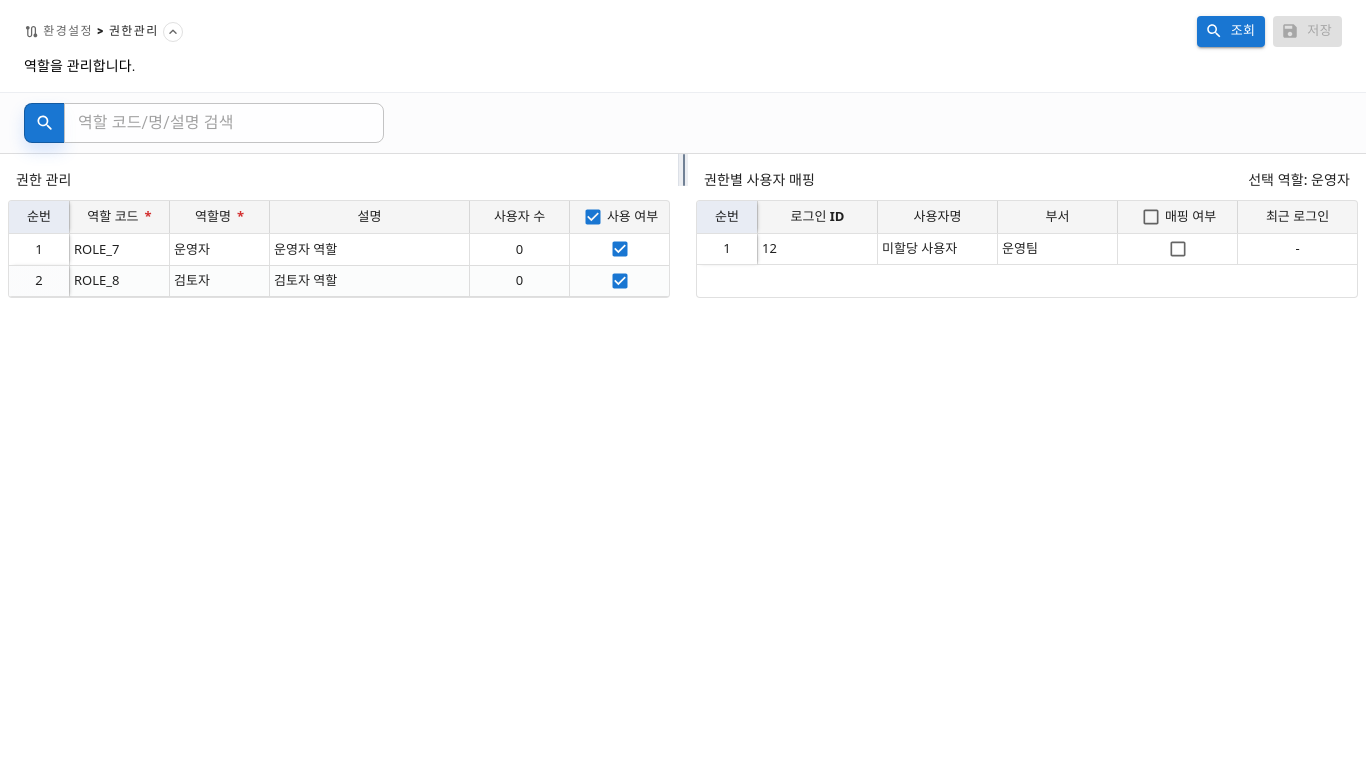
Test: RoleManagementPage notifications › keeps the current role and mapping changes when canceling a guarded role switch
Click the checkbox named "매핑 여부 12".
click(1178, 249)  # box [1168, 239, 1188, 259]
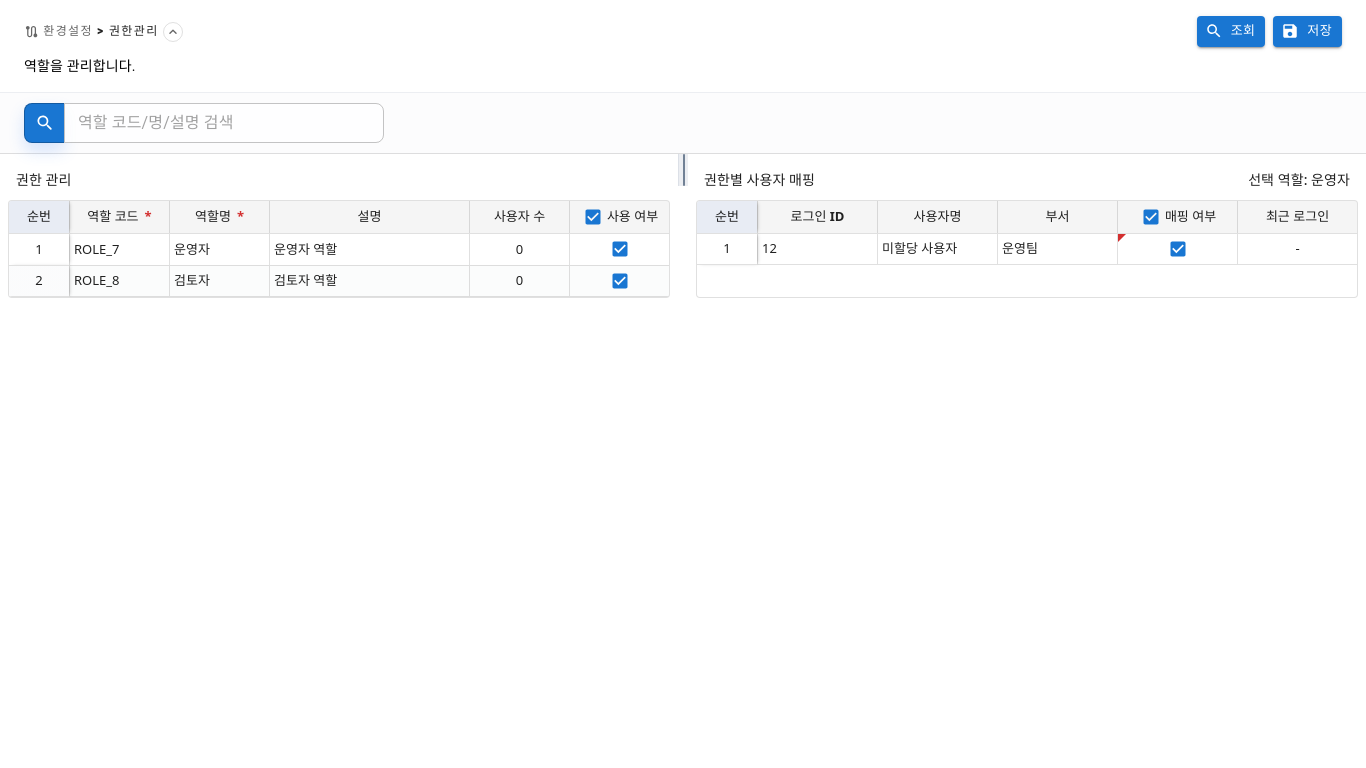
Click the cell "검토자".
click(219, 281)  # box [169, 265, 269, 297]
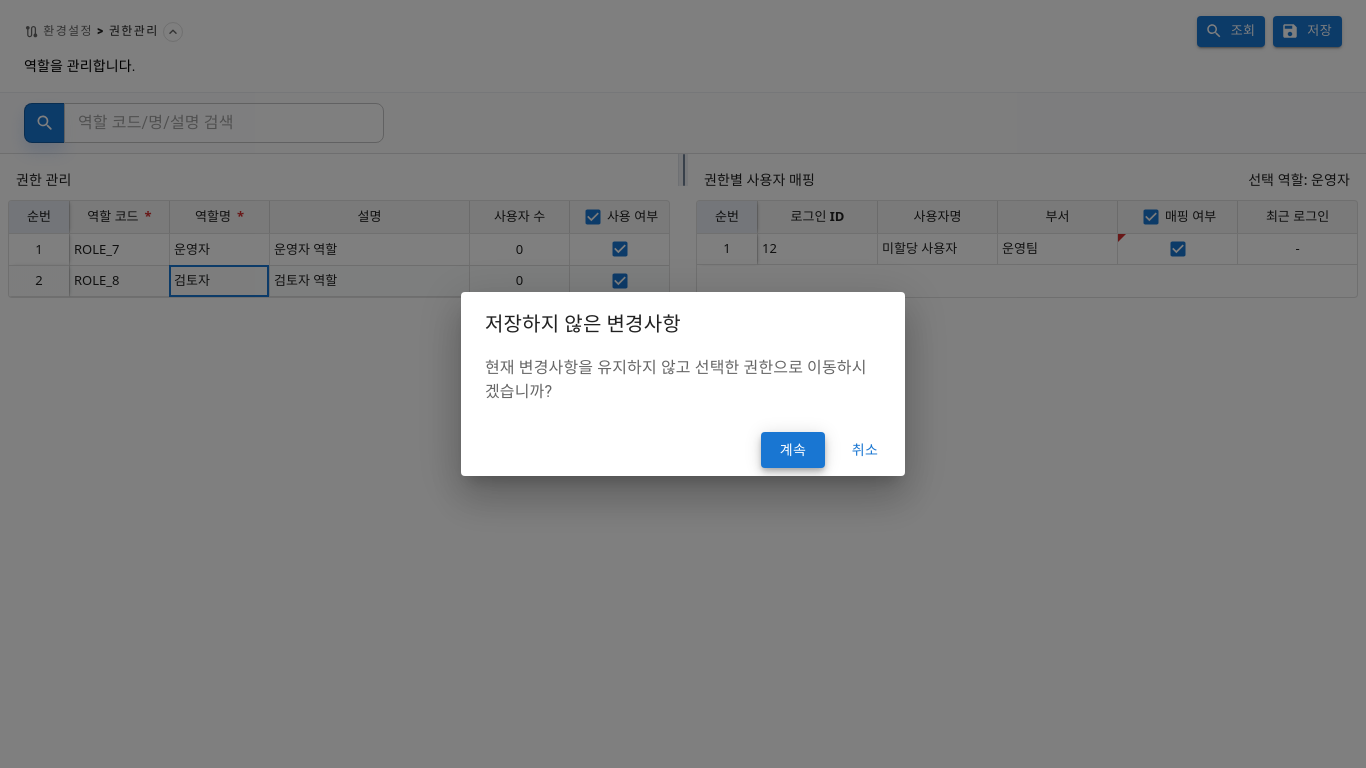
Now the dialog "저장하지 않은 변경사항" is shown, box [461, 292, 905, 476]
Click the button "취소".
click(865, 450)  # box [833, 432, 897, 468]
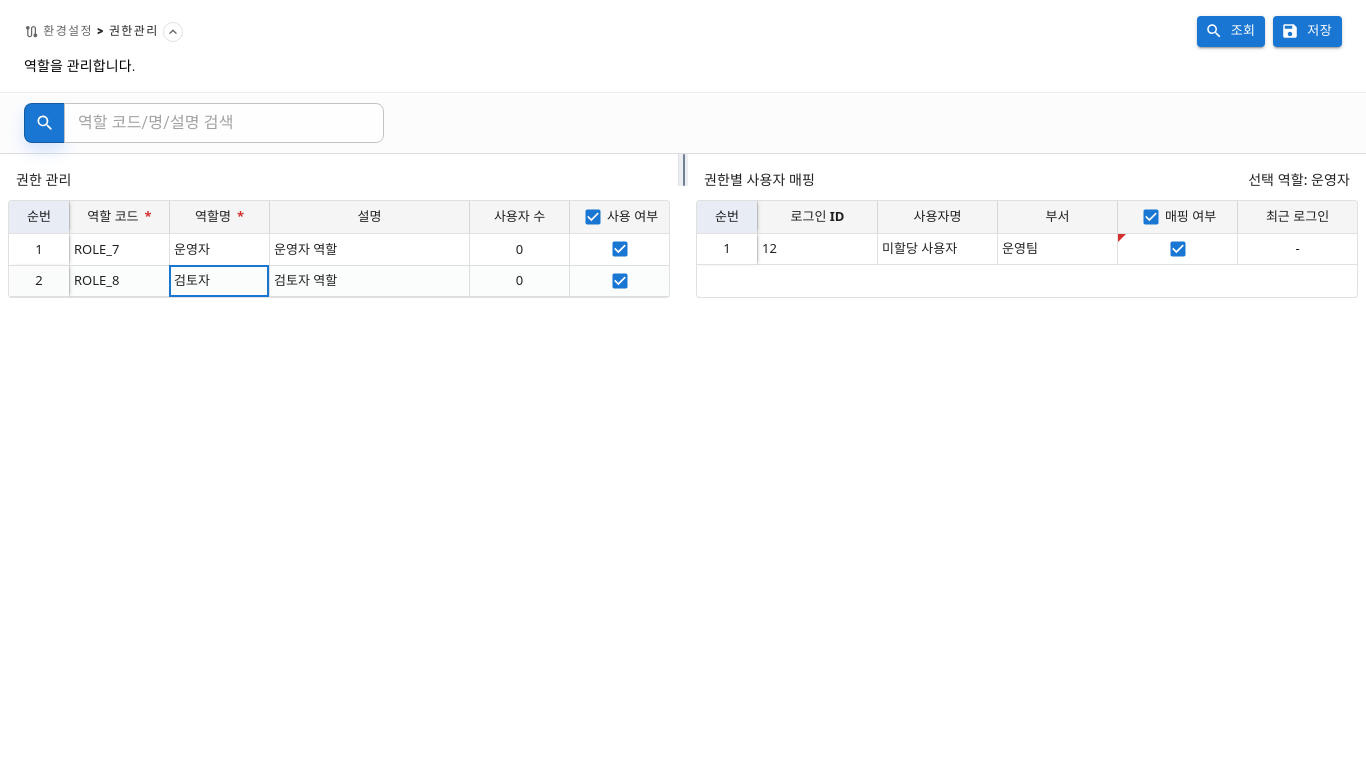
Expected: the heading "선택 역할: 운영자" is shown, [1248, 170, 1350, 192]
Now the checkbox named "매핑 여부 12" is checked, box [1168, 239, 1188, 259]
Now the heading "저장하지 않은 변경사항" is gone
